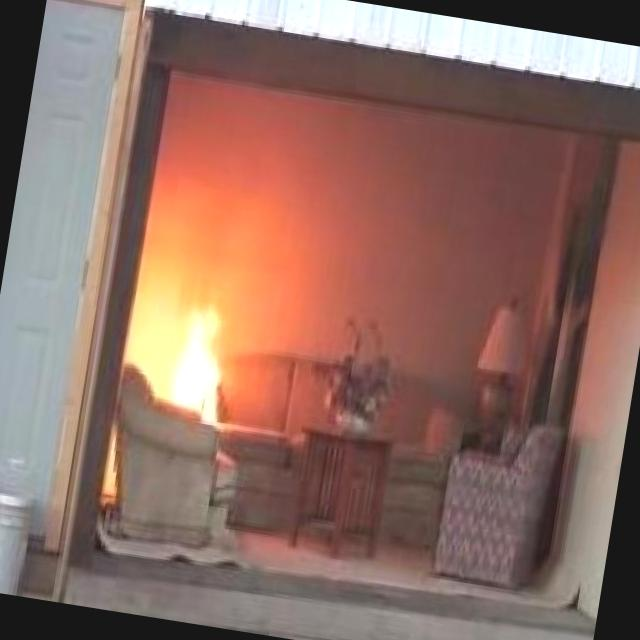fire: (144, 256, 254, 413)
